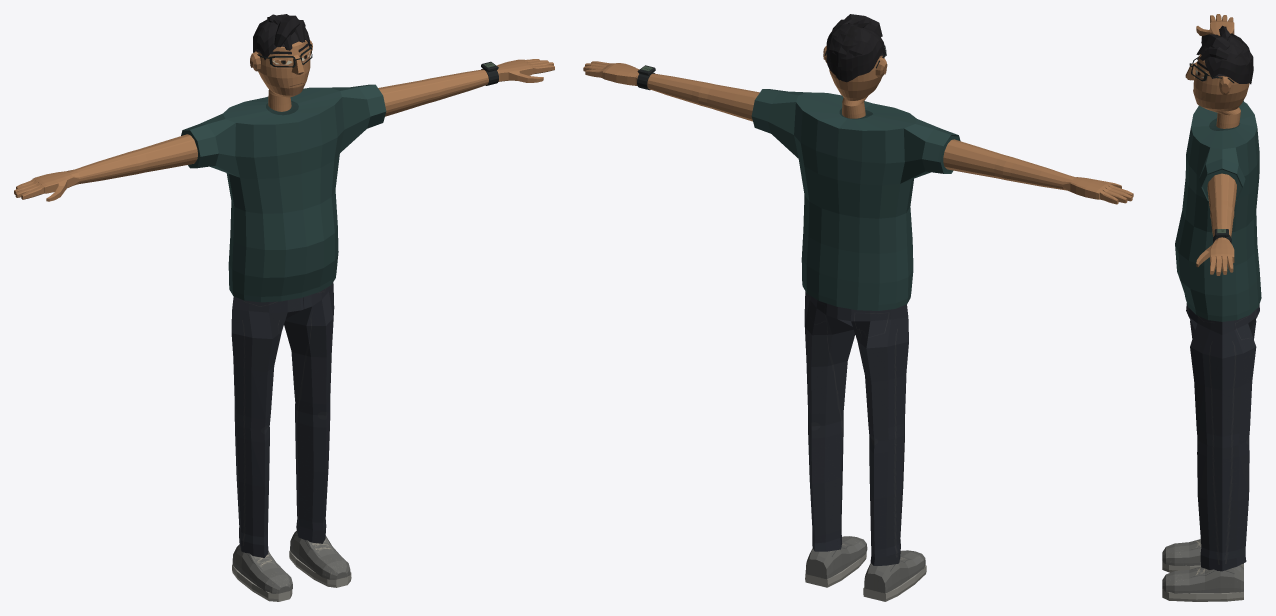
File: Nico_LowPoly.glb
3 renders of one model, left to right at view 1: azimuth 30°, elevation 25°; view 2: azimuth 150°, elevation 25°; view 3: azimuth 270°, elevation 25°, orthographic. The views are drawn at different scales.
Parts seen in each view (by area): view 1: Nico_TShirt • joined torso and sleeve topology, Nico_Jeans • continuous pelvis, crotch and joint loops, Nico_ArmAndFiveFingerHand.R, Nico_ArmAndFiveFingerHand.L, Nico_Skin_HeadAndNeck, Nico_SneakerUpper.L, Nico_SneakerUpper.R, Nico_Hair_v2_Underlayer • close fitted, stepped ear and tape; view 2: Nico_TShirt • joined torso and sleeve topology, Nico_Jeans • continuous pelvis, crotch and joint loops, Nico_ArmAndFiveFingerHand.R, Nico_ArmAndFiveFingerHand.L, Nico_Hair_v2_Underlayer • close fitted, stepped ear and tape, Nico_SneakerUpper.L, Nico_SneakerUpper.R, Nico_Skin_HeadAndNeck; view 3: Nico_Jeans • continuous pelvis, crotch and joint loops, Nico_TShirt • joined torso and sleeve topology, Nico_ArmAndFiveFingerHand.L, Nico_Skin_HeadAndNeck, Nico_SneakerUpper.L, Nico_Hair_v2_Underlayer • close fitted, stepped ear and tape, Nico_SneakerUpper.R, Nico_SneakerSole.L, Nico_ArmAndFiveFingerHand.R, Nico_Hair_v2_Lock_01_MainSweep, Nico_Hair_v2_Lock_03_SideFringe, Nico_SneakerSole.R (+2 smaller).
Part boxes in pixels (left/top/right/bottom): Nico_TShirt • joined torso and sleeve topology: left=181, top=84, right=386, bottom=302; Nico_Jeans • continuous pelvis, crotch and joint loops: left=231, top=282, right=334, bottom=557; Nico_ArmAndFiveFingerHand.R: left=14, top=134, right=197, bottom=201; Nico_ArmAndFiveFingerHand.L: left=378, top=59, right=554, bottom=116; Nico_Skin_HeadAndNeck: left=255, top=40, right=310, bottom=111; Nico_SneakerUpper.L: left=290, top=530, right=350, bottom=579; Nico_SneakerUpper.R: left=232, top=544, right=292, bottom=593; Nico_Hair_v2_Underlayer • close fitted, stepped ear and tape: left=253, top=14, right=310, bottom=59; Nico_TShirt • joined torso and sleeve topology: left=751, top=89, right=960, bottom=310; Nico_Jeans • continuous pelvis, crotch and joint loops: left=804, top=291, right=908, bottom=565; Nico_ArmAndFiveFingerHand.R: left=943, top=139, right=1133, bottom=204; Nico_ArmAndFiveFingerHand.L: left=583, top=61, right=759, bottom=121; Nico_Hair_v2_Underlayer • close fitted, stepped ear and tape: left=826, top=24, right=885, bottom=82; Nico_SneakerUpper.L: left=805, top=536, right=867, bottom=579; Nico_SneakerUpper.R: left=864, top=550, right=925, bottom=593; Nico_Skin_HeadAndNeck: left=829, top=55, right=884, bottom=118; Nico_Jeans • continuous pelvis, crotch and joint loops: left=1186, top=303, right=1259, bottom=571; Nico_TShirt • joined torso and sleeve topology: left=1175, top=100, right=1261, bottom=321; Nico_ArmAndFiveFingerHand.L: left=1196, top=173, right=1236, bottom=275; Nico_Skin_HeadAndNeck: left=1193, top=54, right=1249, bottom=128; Nico_SneakerUpper.L: left=1162, top=565, right=1243, bottom=593; Nico_Hair_v2_Underlayer • close fitted, stepped ear and tape: left=1200, top=34, right=1252, bottom=83; Nico_SneakerUpper.R: left=1162, top=539, right=1243, bottom=565; Nico_SneakerSole.L: left=1162, top=589, right=1243, bottom=601; Nico_ArmAndFiveFingerHand.R: left=1196, top=14, right=1234, bottom=36; Nico_Hair_v2_Lock_01_MainSweep: left=1201, top=34, right=1231, bottom=50; Nico_Hair_v2_Lock_03_SideFringe: left=1199, top=46, right=1230, bottom=60; Nico_SneakerSole.R: left=1162, top=562, right=1243, bottom=572.
Bounding box in the file's own units: 1.76 × 1.75 × 0.285.
Materials: 18 (5 with a texture image).
